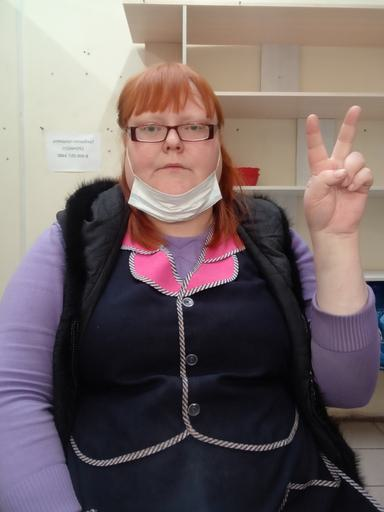peace: (300, 102, 375, 236)
